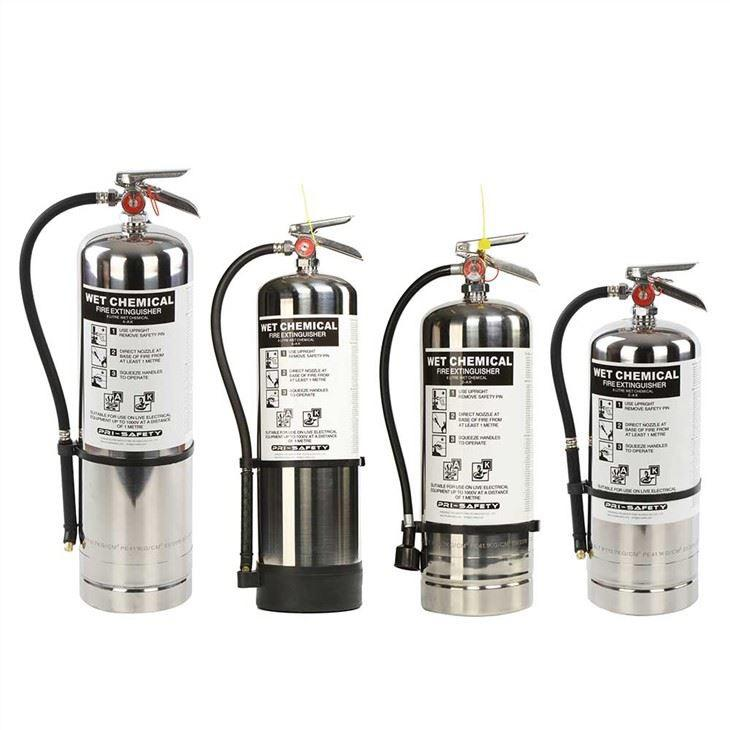Fire Extinguisher: (14, 140, 200, 624), (216, 186, 382, 622), (554, 248, 722, 626), (392, 210, 542, 626)
